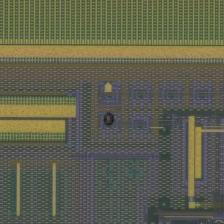PIQ PARTICLE: (99, 111, 119, 131)
